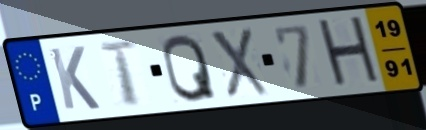7: (272, 23, 313, 92)
H: (314, 13, 385, 92)
K: (46, 44, 103, 113)
Q: (160, 31, 219, 104)
T: (96, 39, 144, 108)
X: (206, 26, 272, 100)
